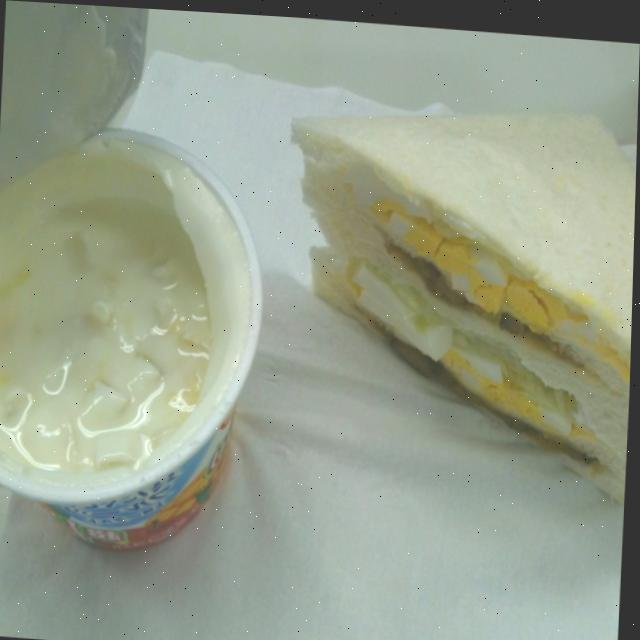三明治: (283, 81, 638, 515)
